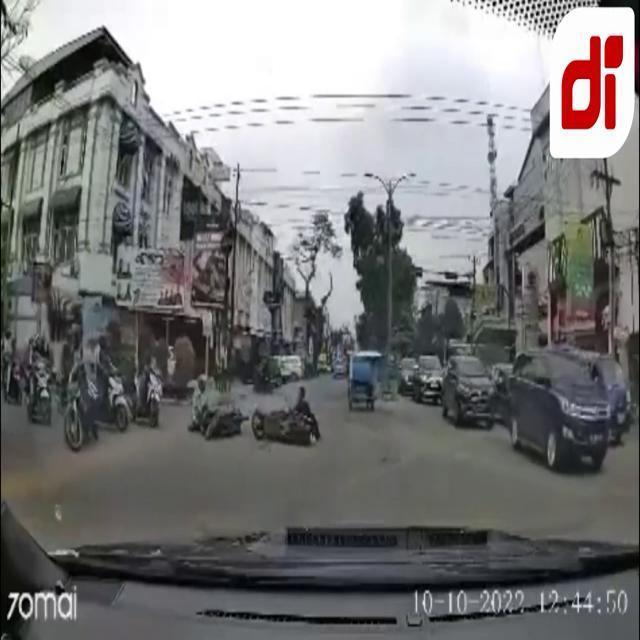accident: (184, 370, 324, 448)
non-accident: (399, 342, 633, 498), (2, 325, 170, 465), (510, 348, 632, 474), (61, 324, 131, 454), (414, 356, 496, 430), (400, 355, 446, 403)
